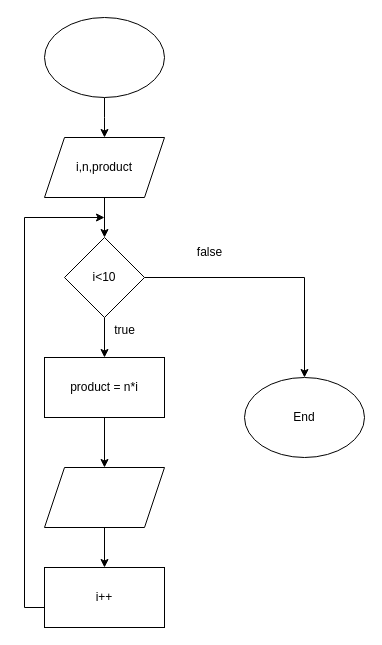
Image size: 382x645. Some labels were removed from this diagram. The centre of each missing label's shape, as x and y in pixels:
"n*i = product" belongs at (104,497).
"Start" belongs at (104,57).
